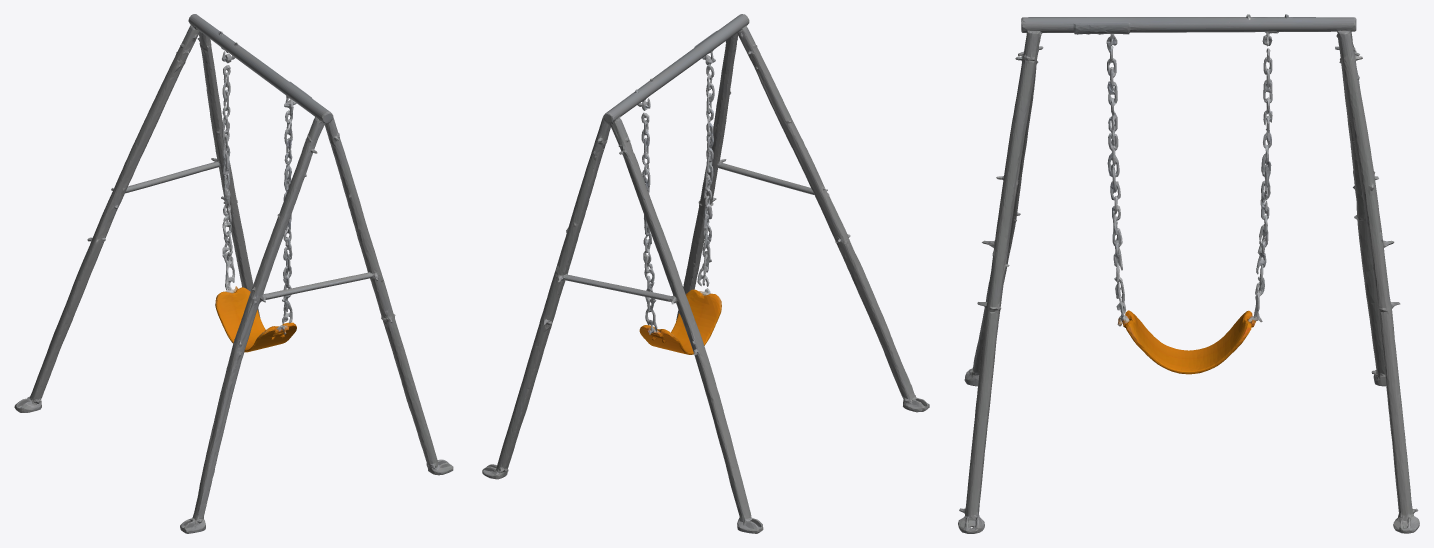
File: leagan+cu+scaun+schimbabil.glb
The picture shows the model from 3 angles, left to right: view 1: azimuth 30°, elevation 25°; view 2: azimuth 150°, elevation 25°; view 3: azimuth 270°, elevation 25°; orthographic projection. The views are drawn at different scales.
Parts seen in each view (by area): view 1: tripo_node_cdbecbbc-fe30-47d6-a785-e2dc27369964; view 2: tripo_node_cdbecbbc-fe30-47d6-a785-e2dc27369964; view 3: tripo_node_cdbecbbc-fe30-47d6-a785-e2dc27369964.
Boxes of the visible parts, box(x1,y1,x2,y2) form: tripo_node_cdbecbbc-fe30-47d6-a785-e2dc27369964: box(14, 14, 453, 533); tripo_node_cdbecbbc-fe30-47d6-a785-e2dc27369964: box(482, 14, 929, 533); tripo_node_cdbecbbc-fe30-47d6-a785-e2dc27369964: box(958, 14, 1419, 533).
Size of the model in its own units: 0.7573 by 0.9995 by 0.9133.
Materials: 1 (1 with a texture image).
